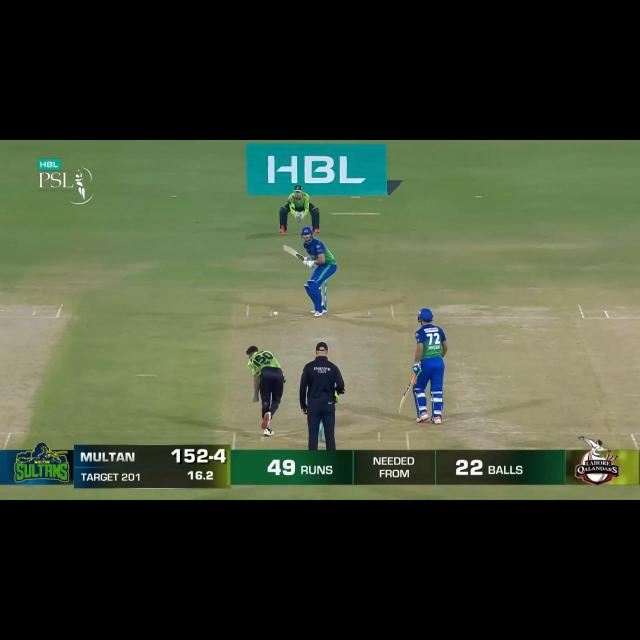bat: (398, 381, 413, 414), (284, 244, 306, 262)
toe: (283, 245, 291, 254), (398, 407, 403, 415)
